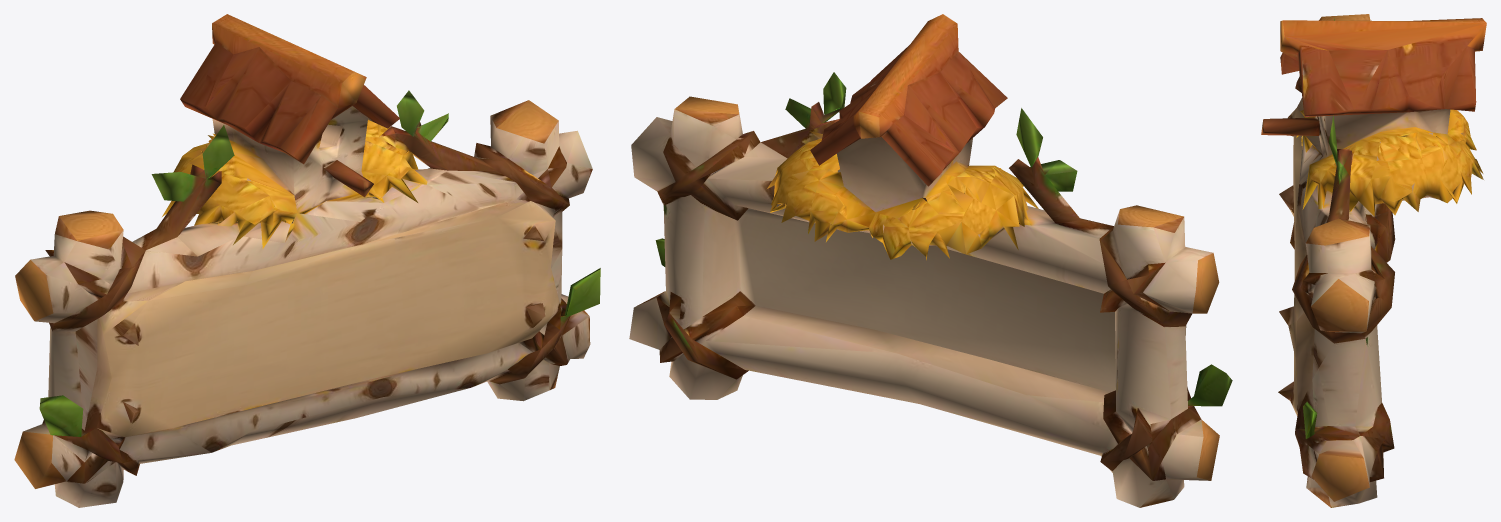
3 renders of one model, left to right at view 1: azimuth 30°, elevation 25°; view 2: azimuth 150°, elevation 25°; view 3: azimuth 270°, elevation 25°, orthographic. The views are drawn at different scales.
Visible parts, largest first — view 1: plate-birch; view 2: plate-birch; view 3: plate-birch.
Boxes of the visible parts, x1,y1,x2,y2 form: plate-birch: (14,14,600,507); plate-birch: (629,14,1232,507); plate-birch: (1261,14,1486,507).
Bounding box in the file's own units: 1.2 × 0.7989 × 0.4271.
Materials: 1 (1 with a texture image).
